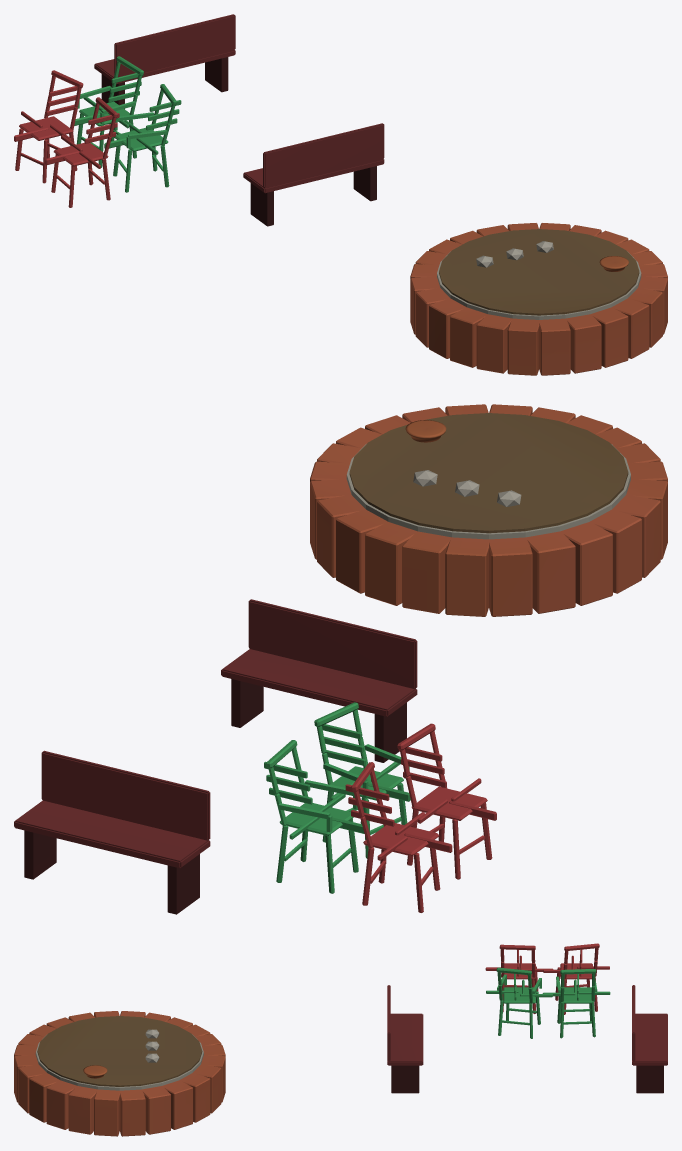
Rendered from chowk_plaza.glb.
The picture shows the model from 3 angles, top to bottom: view 1: azimuth 30°, elevation 25°; view 2: azimuth 150°, elevation 25°; view 3: azimuth 270°, elevation 25°; orthographic projection. The views are drawn at different scales.
Parts seen in each view (by area): view 1: hb_props, hb_brick, hb_main; view 2: hb_props, hb_brick, hb_main; view 3: hb_props, hb_brick, hb_main.
Boxes of the visible parts, x1=… form: hb_props: x1=14, y1=14, x2=639, y2=315; hb_brick: x1=410, y1=223, x2=667, y2=375; hb_main: x1=437, y1=251, x2=641, y2=319; hb_props: x1=14, y1=413, x2=628, y2=914; hb_brick: x1=310, y1=404, x2=667, y2=616; hb_main: x1=346, y1=444, x2=630, y2=539; hb_props: x1=37, y1=943, x2=667, y2=1093; hb_brick: x1=14, y1=1011, x2=225, y2=1136; hb_main: x1=35, y1=1034, x2=203, y2=1090.
Size of the model in its own units: 4.2 by 0.954 by 8.02.
